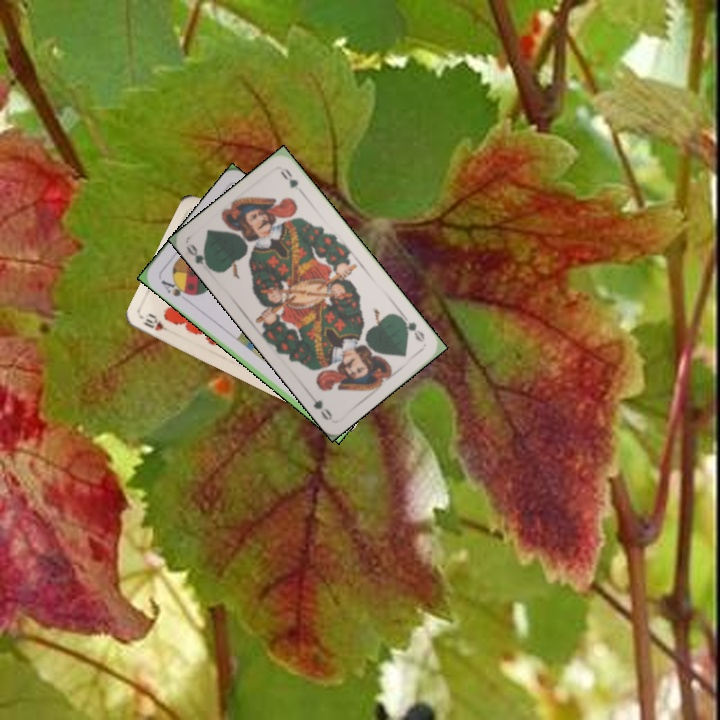GO: (182, 240, 216, 273), (397, 311, 427, 345)
H10: (139, 310, 176, 337)
SA: (157, 276, 194, 300)
